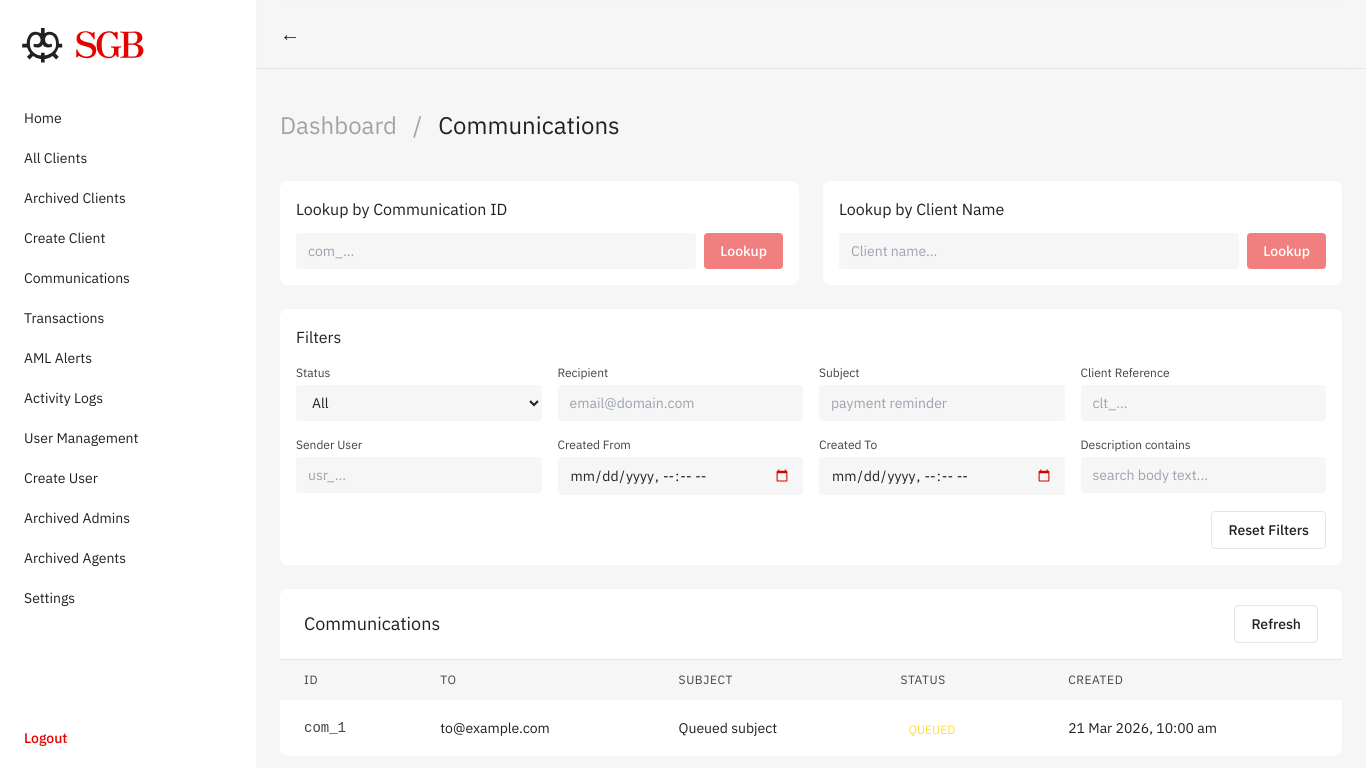
Scenario: AdminCommunications behavior › shows fallback message on communication-id lookup failure
The image size is (1366, 768).
Expected: the heading "Lookup by Communication ID" is shown, [296,199,507,219]
Type "com_missing" into the field with placeholder "com_..." at (496, 251), box [296,233,696,269]
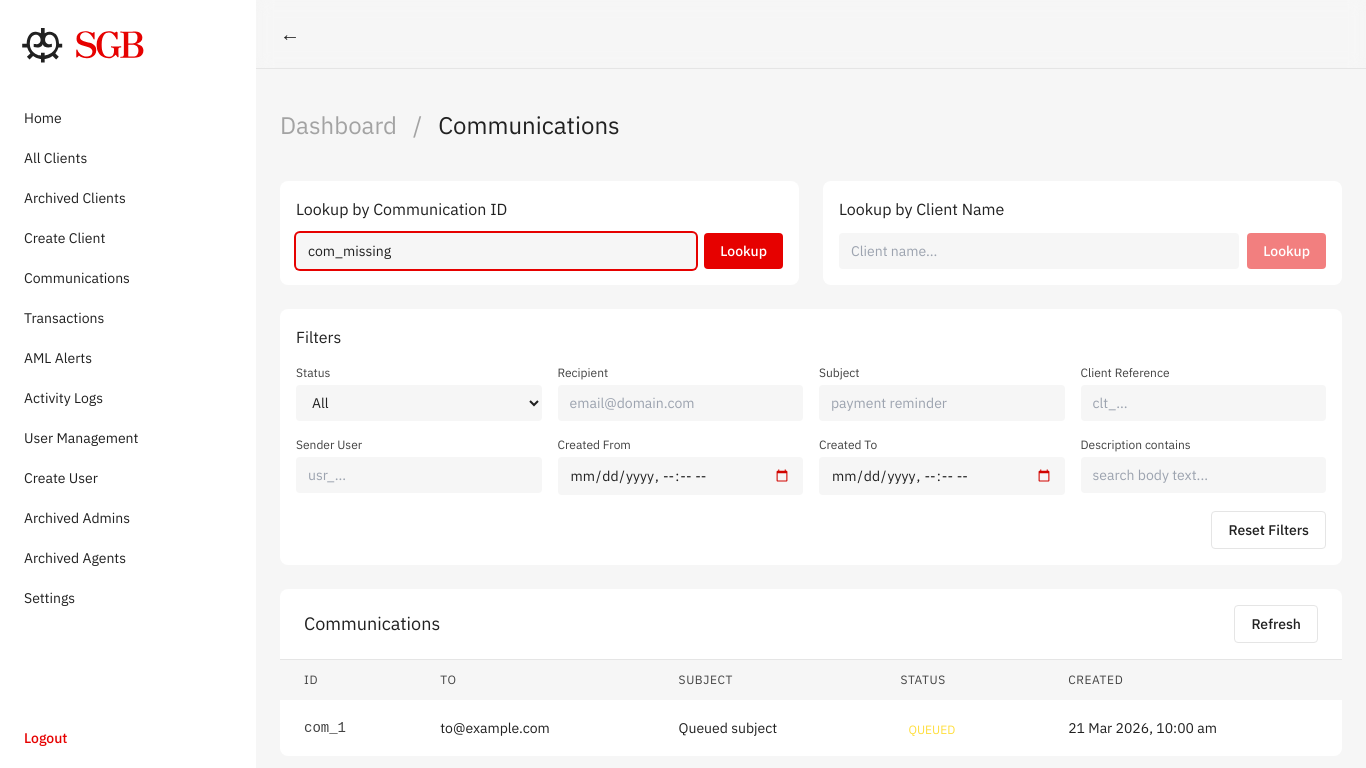
Click the button "Lookup" below "Lookup by Communication ID" at (744, 251), box [704,233,783,269]
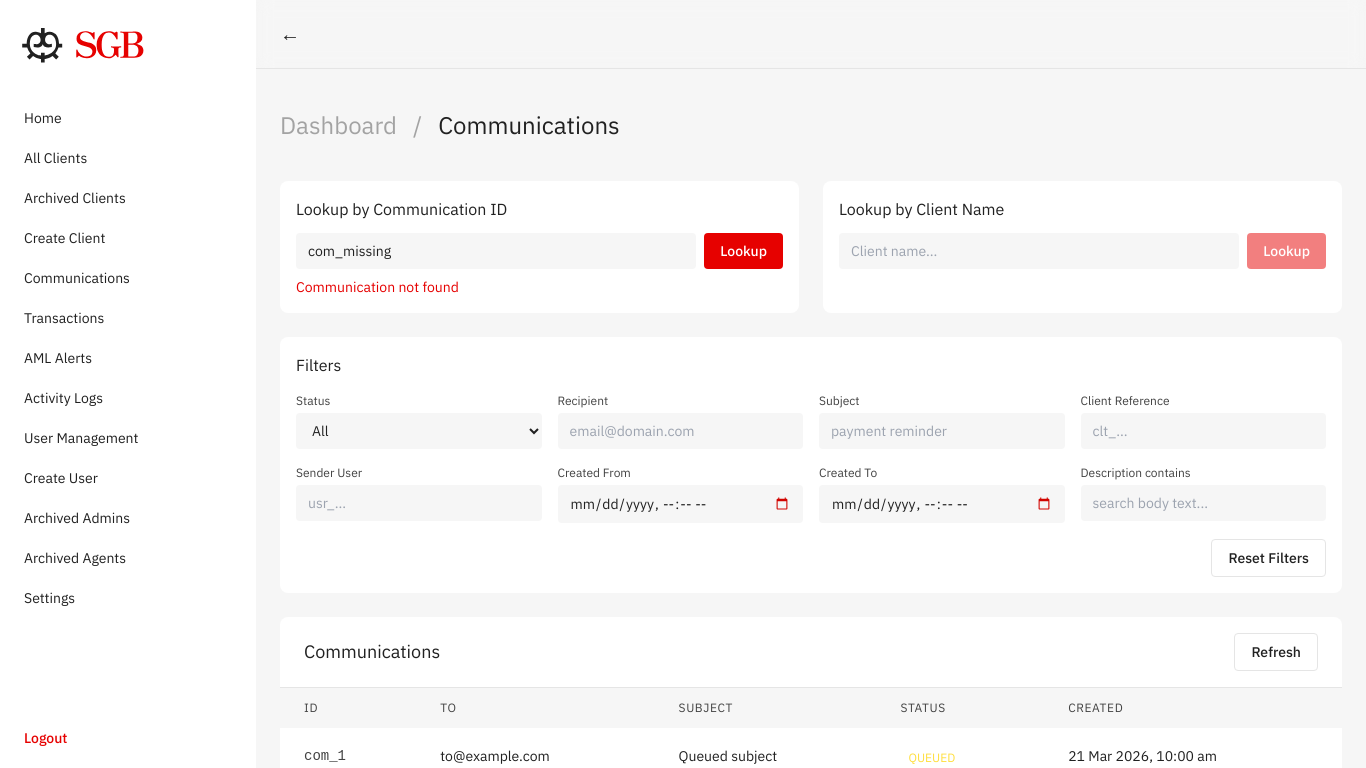
Now the text "Communication not found" is shown, box [296,278,459,296]
